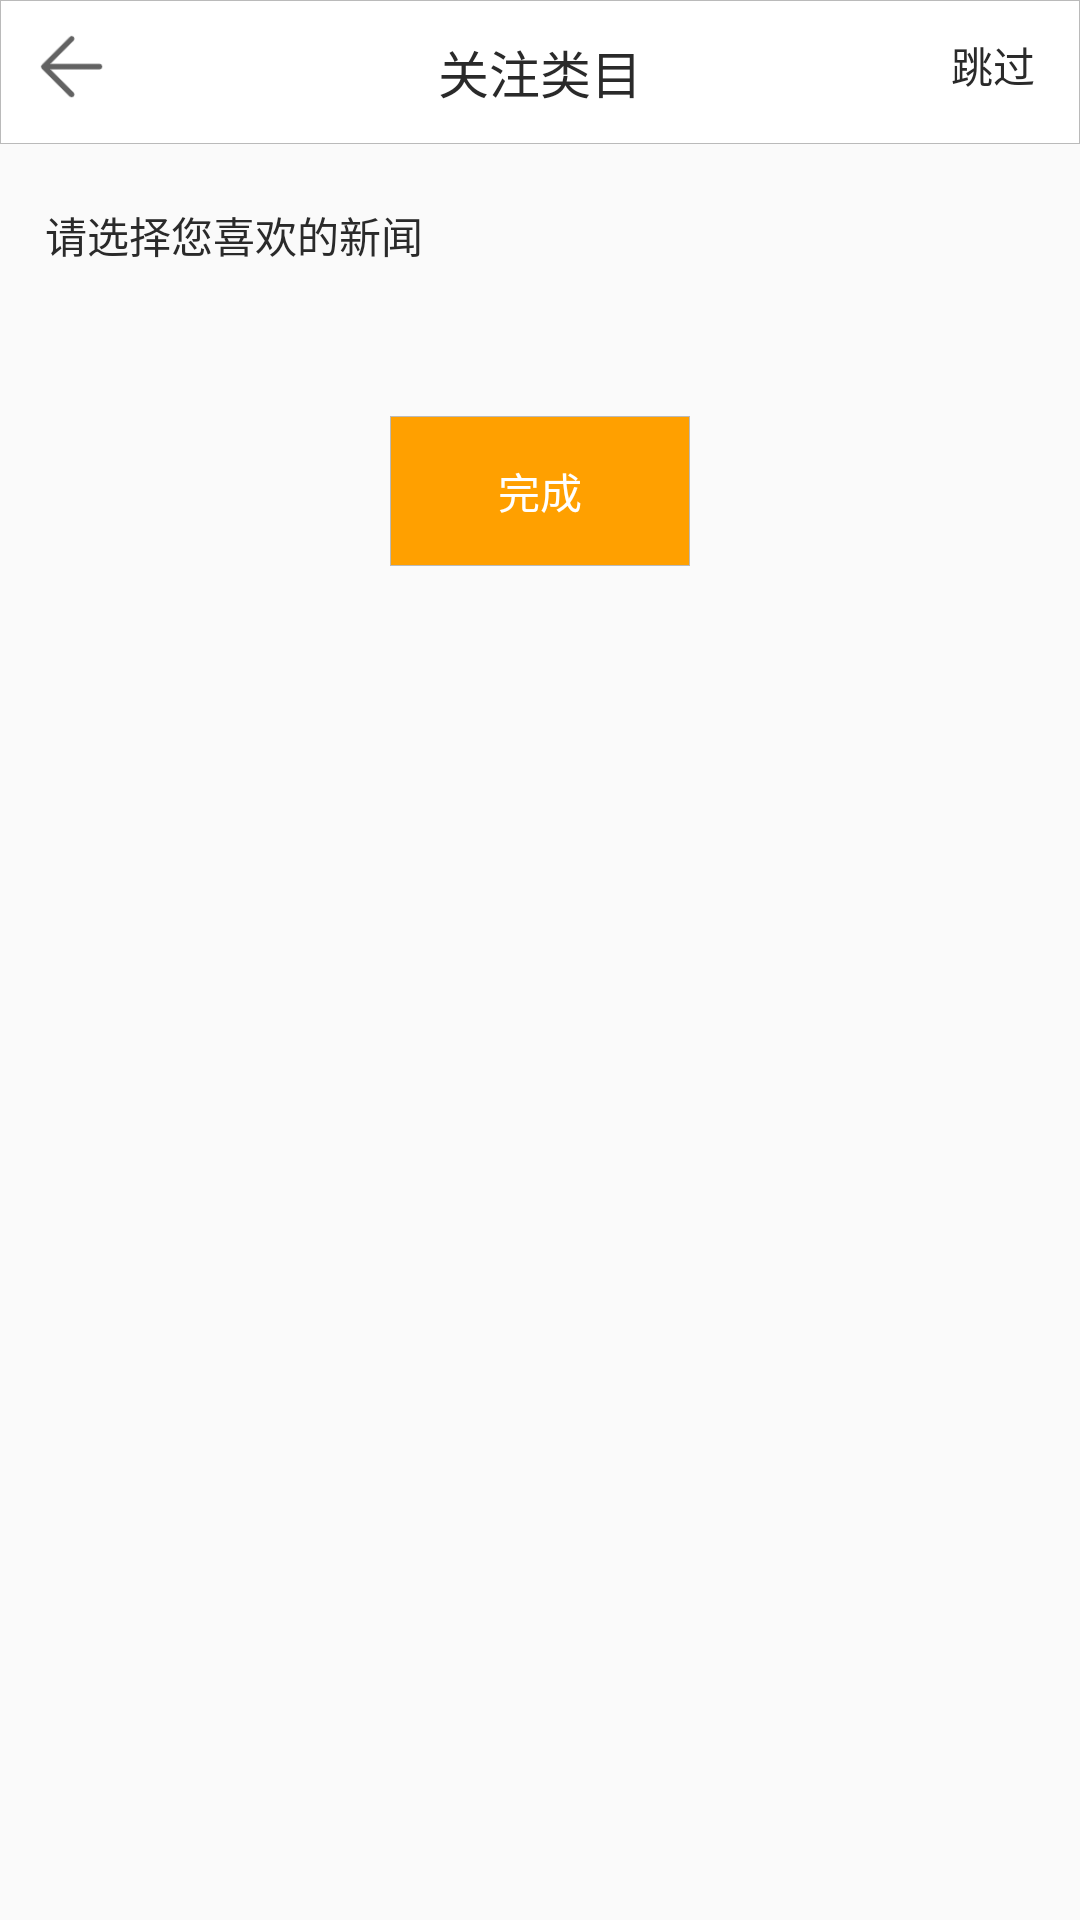

Where to tap for icons on this 1080px×1920px app screen, as point (x, y):
back nor: point (72, 67)
